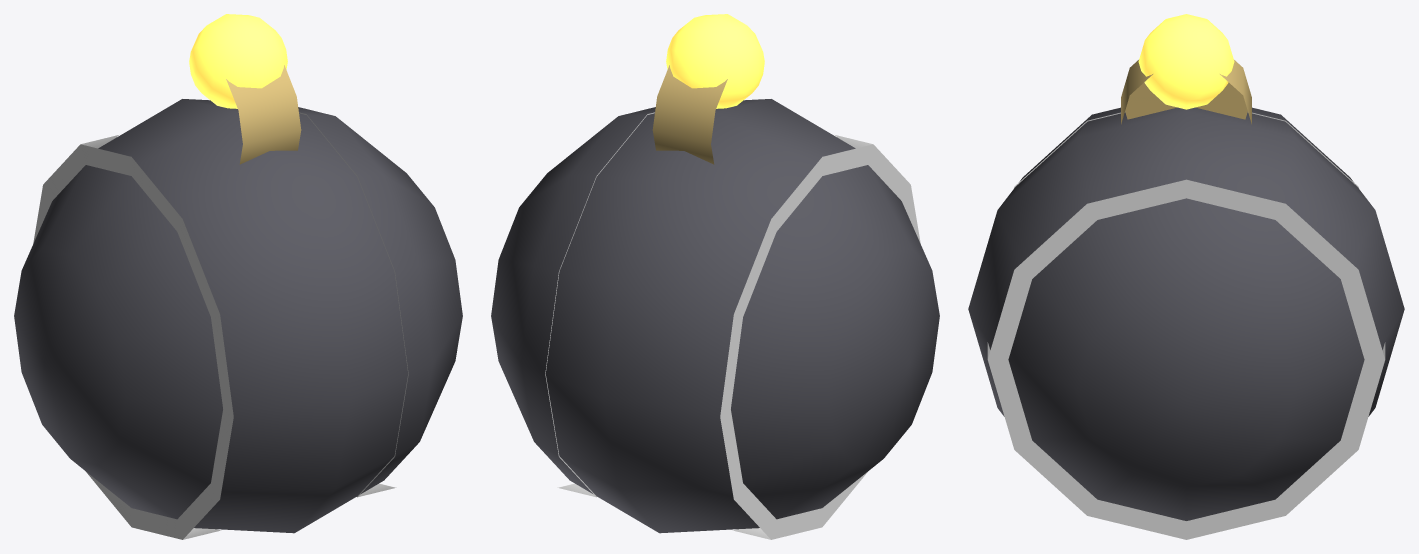
Rendered from siege_mortar.glb.
3 renders of one model, left to right at view 1: azimuth 30°, elevation 25°; view 2: azimuth 150°, elevation 25°; view 3: azimuth 270°, elevation 25°, orthographic. The views are drawn at different scales.
Visible parts, largest first — view 1: model; view 2: model; view 3: model.
Part boxes in pixels (x1=…): model: x1=14, y1=14, x2=462, y2=539; model: x1=491, y1=14, x2=939, y2=539; model: x1=968, y1=14, x2=1404, y2=539.
Bounding box in the file's own units: 0.4 × 0.494 × 0.4.
